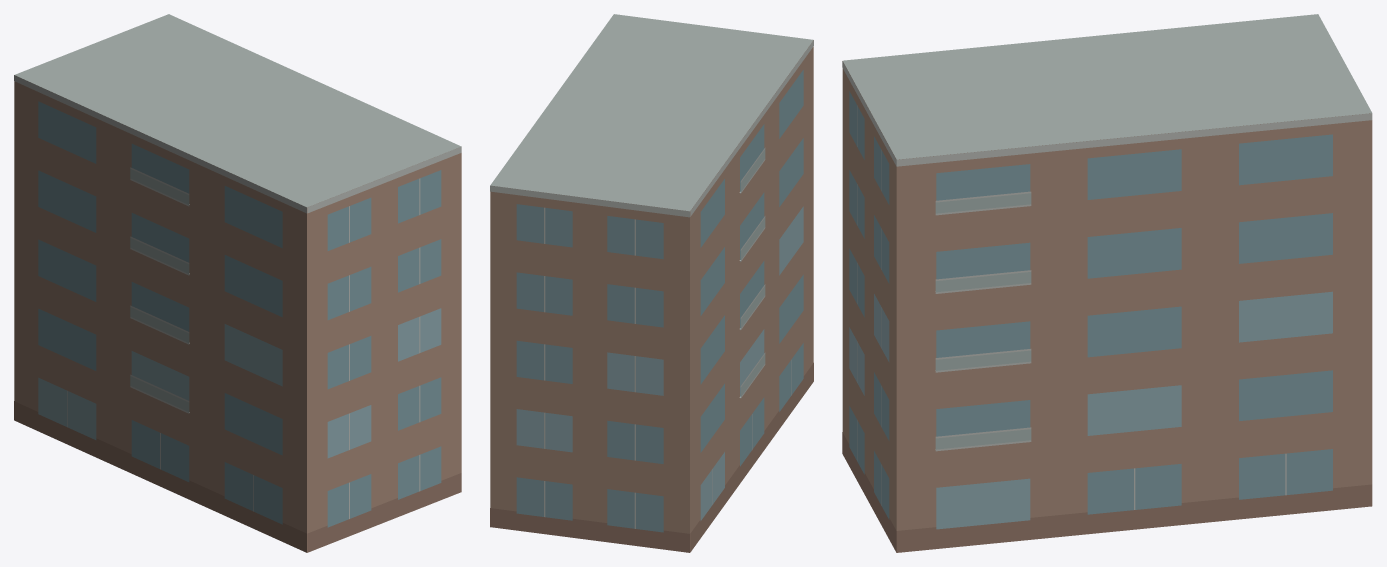
The model's file is survey-upis-33001939.glb.
3 views of the same model, side by side, from view 1: azimuth 30°, elevation 25°; view 2: azimuth 150°, elevation 25°; view 3: azimuth 270°, elevation 25° (orthographic). The views are drawn at different scales.
Parts seen in each view (by area): view 1: survey-upis-33001939.tmp; view 2: survey-upis-33001939.tmp; view 3: survey-upis-33001939.tmp.
Boxes of the visible parts, x1,y1,x2,y2 form: survey-upis-33001939.tmp: [14, 14, 461, 552]; survey-upis-33001939.tmp: [490, 14, 813, 552]; survey-upis-33001939.tmp: [842, 14, 1372, 552].
Bounding box in the file's own units: 10.89 × 13.7 × 16.74.
